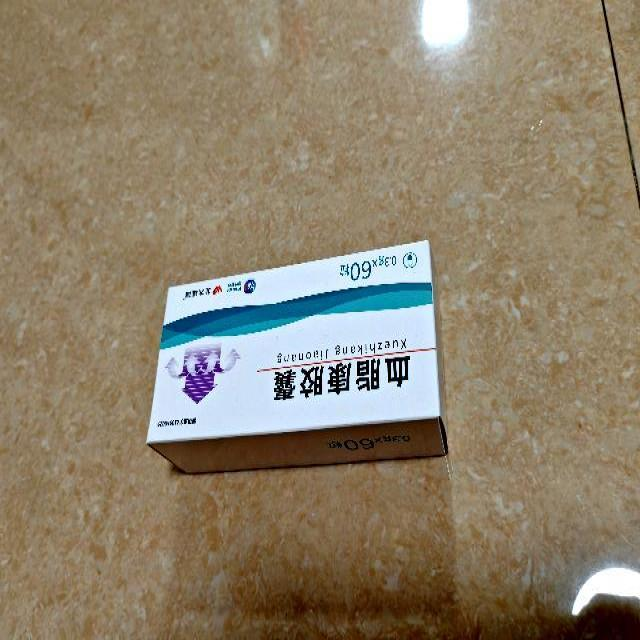box: (144, 238, 448, 474)
